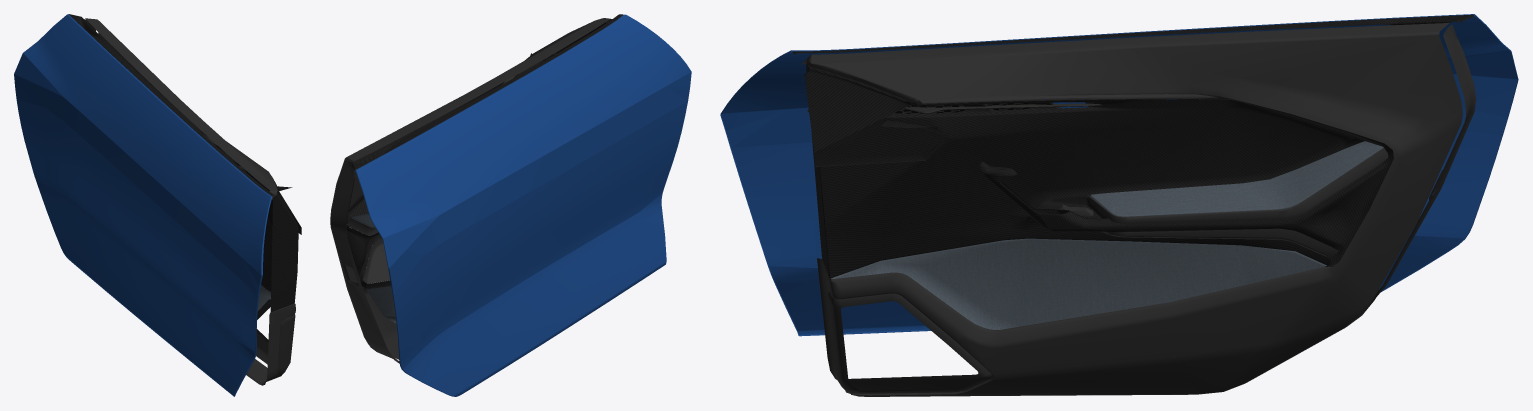
The model's file is Door_rf.glb.
The picture shows the model from 3 angles, left to right: view 1: azimuth 30°, elevation 25°; view 2: azimuth 150°, elevation 25°; view 3: azimuth 270°, elevation 25°; orthographic projection. The views are drawn at different scales.
Visible parts, largest first — view 1: body:Paint_Geo_lodABody_lodA_Lamborghini_IVRewardRecycled_20; view 2: body:Paint_Geo_lodABody_lodA_Lamborghini_IVRewardRecycled_20; view 3: body:Paint_Geo_lodABody_lodA_Lamborghini_IVRewardRecycled_20.
Part boxes in pixels (bbox=[...]): body:Paint_Geo_lodABody_lodA_Lamborghini_IVRewardRecycled_20: bbox=[14, 14, 301, 396]; body:Paint_Geo_lodABody_lodA_Lamborghini_IVRewardRecycled_20: bbox=[330, 14, 691, 396]; body:Paint_Geo_lodABody_lodA_Lamborghini_IVRewardRecycled_20: bbox=[720, 14, 1518, 396].
Size of the model in its own units: 0.00295 by 0.0074 by 0.0144.
Materials: 6 (5 with a texture image).
